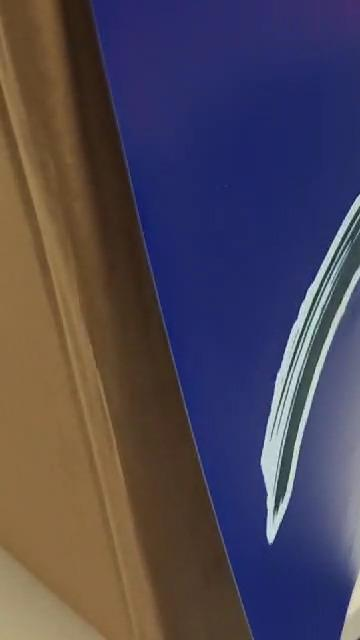B_R1: (251, 0, 360, 552)
